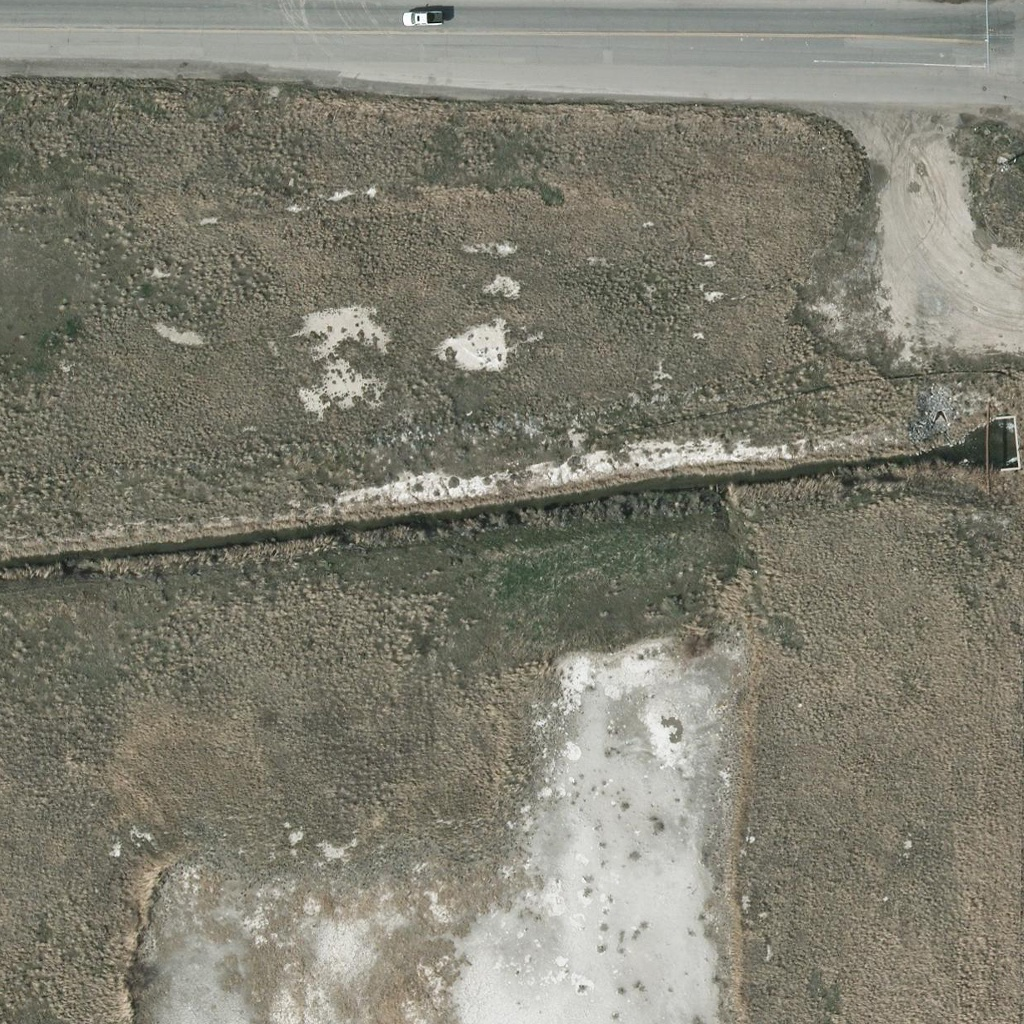car: (402, 8, 444, 28)
